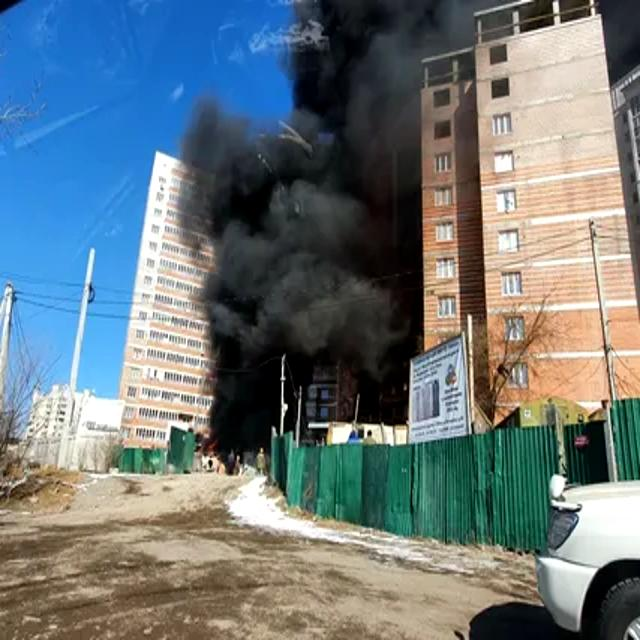Smoke: (206, 4, 421, 442)
